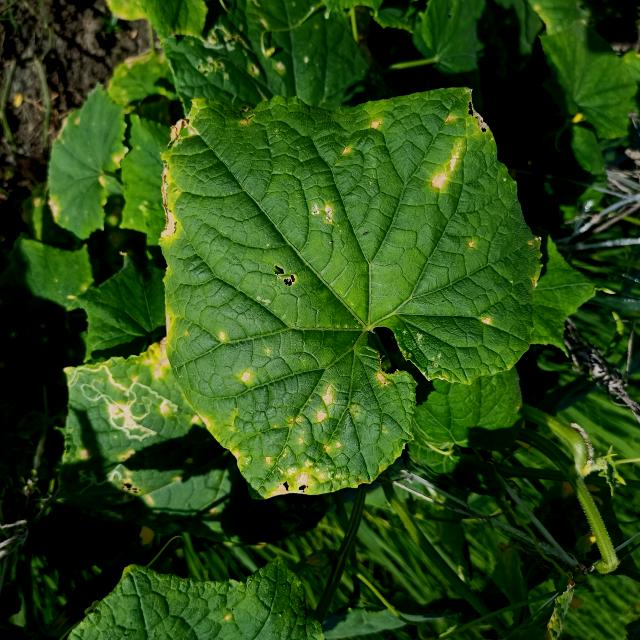disease_cucumber: (261, 382, 362, 496), (438, 112, 484, 192), (137, 302, 182, 378), (151, 159, 183, 242), (309, 201, 336, 226), (482, 312, 492, 329), (242, 368, 252, 384), (342, 144, 353, 155), (370, 118, 380, 130), (219, 330, 227, 343)
